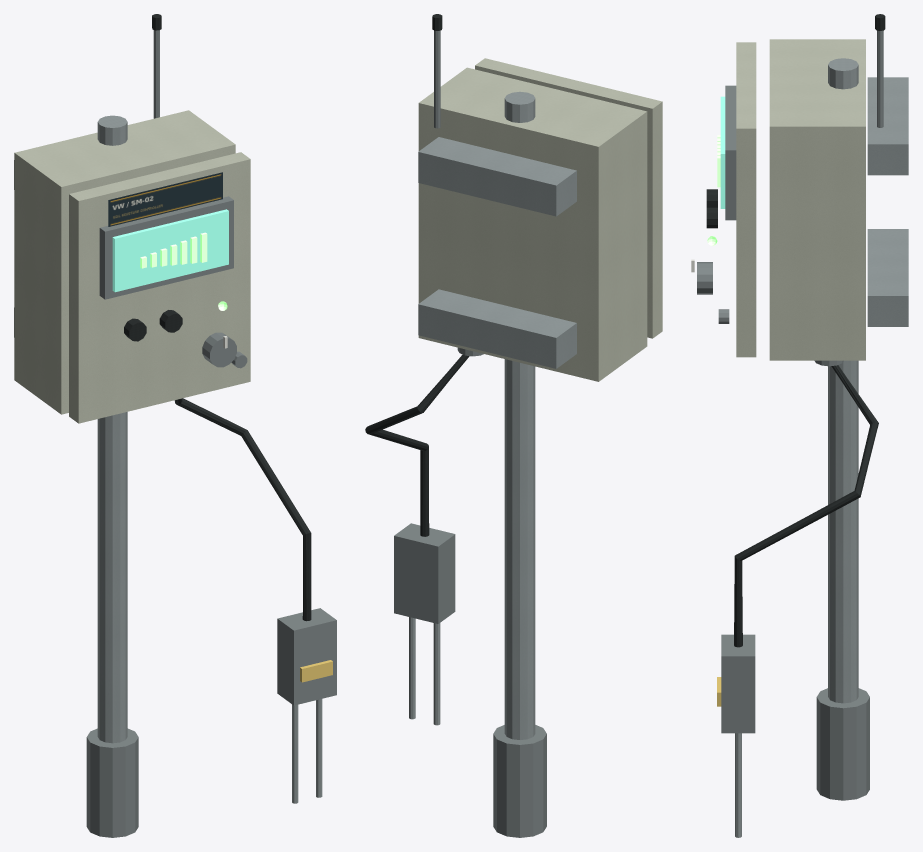
File: PROJECT_Z_GIK01_Soil_Moisture_Controller.glb
3 renders of one model, left to right at view 1: azimuth 30°, elevation 25°; view 2: azimuth 150°, elevation 25°; view 3: azimuth 270°, elevation 25°, orthographic. The views are drawn at different scales.
Visible parts, largest first — view 1: SM_Controller_Front_OpeningDoor, SM_Controller_IP67_RearChassis, SM_Controller_MountingPole_1p35m, SM_Controller_LCD_EmissiveSurface, SM_Controller_PoleBase_Spike, SM_Controller_SoilSensor_ProbeBody, SM_Controller_LCD_Bezel, SM_Controller_FaceBrand, SM_Controller_SoilSensor_ShieldedLead, SM_Controller_SoilSensor_StainlessProngs, SM_Controller_LCD_Bargraph, SM_Controller_Setpoint_Dial__MAT01 (+2 smaller); view 2: SM_Controller_IP67_RearChassis, SM_Controller_IP67_MountBrackets, SM_Controller_MountingPole_1p35m, SM_Controller_Front_OpeningDoor, SM_Controller_SoilSensor_ProbeBody, SM_Controller_PoleBase_Spike, SM_Controller_SoilSensor_ShieldedLead, SM_Controller_SoilSensor_StainlessProngs, SM_Controller_Rear_AntennaStandoff; view 3: SM_Controller_IP67_RearChassis, SM_Controller_MountingPole_1p35m, SM_Controller_IP67_MountBrackets, SM_Controller_Front_OpeningDoor, SM_Controller_PoleBase_Spike, SM_Controller_SoilSensor_ProbeBody, SM_Controller_SoilSensor_ShieldedLead, SM_Controller_LCD_Bezel, SM_Controller_SoilSensor_StainlessProngs, SM_Controller_Rear_AntennaStandoff, SM_Controller_LCD_EmissiveSurface, SM_Controller_Setpoint_Dial__MAT01 (+1 smaller).
Part boxes in pixels (box(x1,y1,x2,y2)): SM_Controller_Front_OpeningDoor: box(69, 152, 250, 423); SM_Controller_IP67_RearChassis: box(14, 110, 235, 414); SM_Controller_MountingPole_1p35m: box(97, 115, 127, 743); SM_Controller_LCD_EmissiveSurface: box(112, 209, 228, 292); SM_Controller_PoleBase_Spike: box(86, 728, 138, 837); SM_Controller_SoilSensor_ProbeBody: box(277, 608, 336, 705); SM_Controller_LCD_Bezel: box(99, 196, 233, 299); SM_Controller_FaceBrand: box(108, 172, 222, 226); SM_Controller_SoilSensor_ShieldedLead: box(174, 398, 311, 621); SM_Controller_SoilSensor_StainlessProngs: box(292, 699, 322, 803); SM_Controller_LCD_Bargraph: box(140, 232, 207, 268); SM_Controller_Setpoint_Dial__MAT01: box(202, 332, 236, 367); SM_Controller_IP67_RearChassis: box(418, 67, 647, 381); SM_Controller_IP67_MountBrackets: box(418, 137, 576, 368); SM_Controller_MountingPole_1p35m: box(504, 91, 535, 739); SM_Controller_Front_OpeningDoor: box(475, 58, 662, 338); SM_Controller_SoilSensor_ProbeBody: box(394, 523, 455, 623); SM_Controller_PoleBase_Spike: box(493, 725, 546, 837); SM_Controller_SoilSensor_ShieldedLead: box(365, 354, 469, 536); SM_Controller_SoilSensor_StainlessProngs: box(409, 617, 440, 725); SM_Controller_Rear_AntennaStandoff: box(434, 30, 440, 128); SM_Controller_IP67_RearChassis: box(769, 39, 865, 360); SM_Controller_MountingPole_1p35m: box(828, 58, 858, 703); SM_Controller_IP67_MountBrackets: box(867, 77, 908, 326); SM_Controller_Front_OpeningDoor: box(736, 42, 756, 357); SM_Controller_PoleBase_Spike: box(816, 688, 869, 800); SM_Controller_SoilSensor_ProbeBody: box(721, 634, 755, 733); SM_Controller_SoilSensor_ShieldedLead: box(734, 365, 878, 647); SM_Controller_LCD_Bezel: box(725, 85, 736, 220); SM_Controller_SoilSensor_StainlessProngs: box(735, 733, 741, 837); SM_Controller_Rear_AntennaStandoff: box(877, 30, 883, 127); SM_Controller_LCD_EmissiveSurface: box(720, 96, 725, 208); SM_Controller_Setpoint_Dial__MAT01: box(697, 262, 712, 294).
Size of the model in its own units: 0.5275 by 1.57 by 0.383.
Materials: 9 (4 with a texture image).
